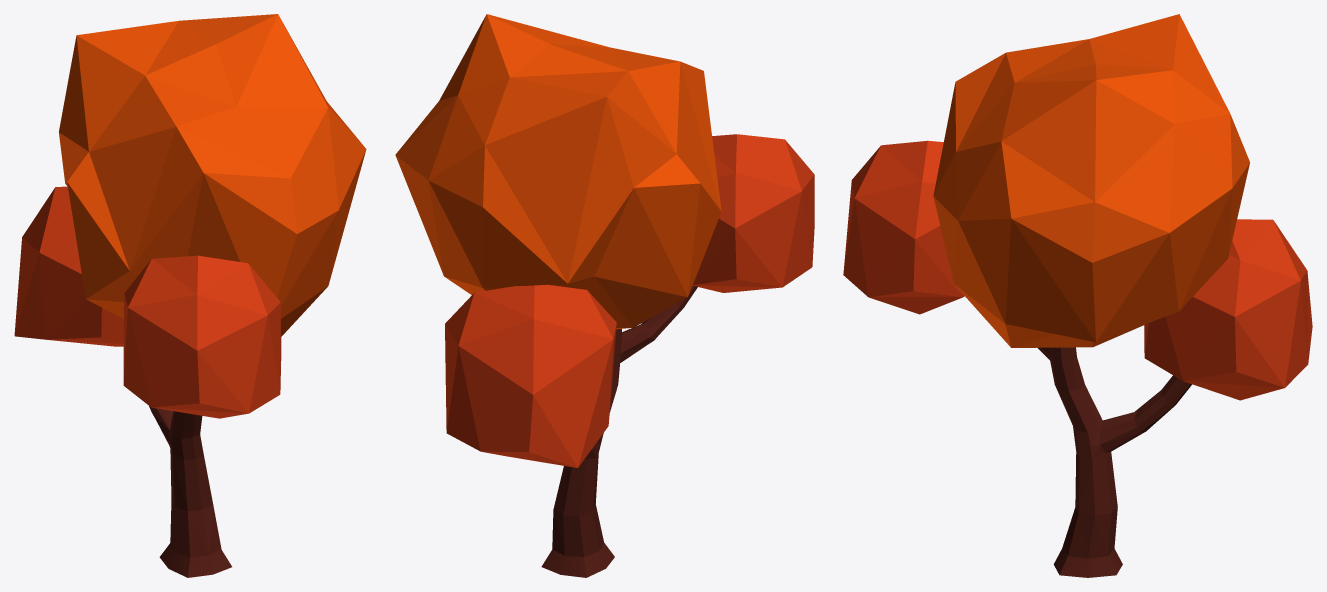
Rendered from tree_1.FBX.
3 renders of one model, left to right at view 1: azimuth 30°, elevation 25°; view 2: azimuth 150°, elevation 25°; view 3: azimuth 270°, elevation 25°, orthographic.
Visible parts, largest first — view 1: GeoSphere012, GeoSphere011, GeoSphere013, Box225; view 2: GeoSphere012, GeoSphere013, GeoSphere011, Box225; view 3: GeoSphere012, GeoSphere013, GeoSphere011, Box225.
Boxes of the visible parts, left/top/right/bottom form: GeoSphere012: left=59, top=14, right=366, bottom=336; GeoSphere011: left=123, top=255, right=281, bottom=418; GeoSphere013: left=14, top=186, right=123, bottom=346; Box225: left=149, top=406, right=231, bottom=577; GeoSphere012: left=395, top=14, right=721, bottom=329; GeoSphere013: left=445, top=284, right=616, bottom=467; GeoSphere011: left=692, top=134, right=814, bottom=292; Box225: left=541, top=285, right=698, bottom=577; GeoSphere012: left=933, top=14, right=1249, bottom=347; GeoSphere013: left=1144, top=219, right=1312, bottom=400; GeoSphere011: left=843, top=140, right=964, bottom=314; Box225: left=1037, top=347, right=1191, bottom=577.
Size of the model in its own units: 7.59 by 12.97 by 10.48.
